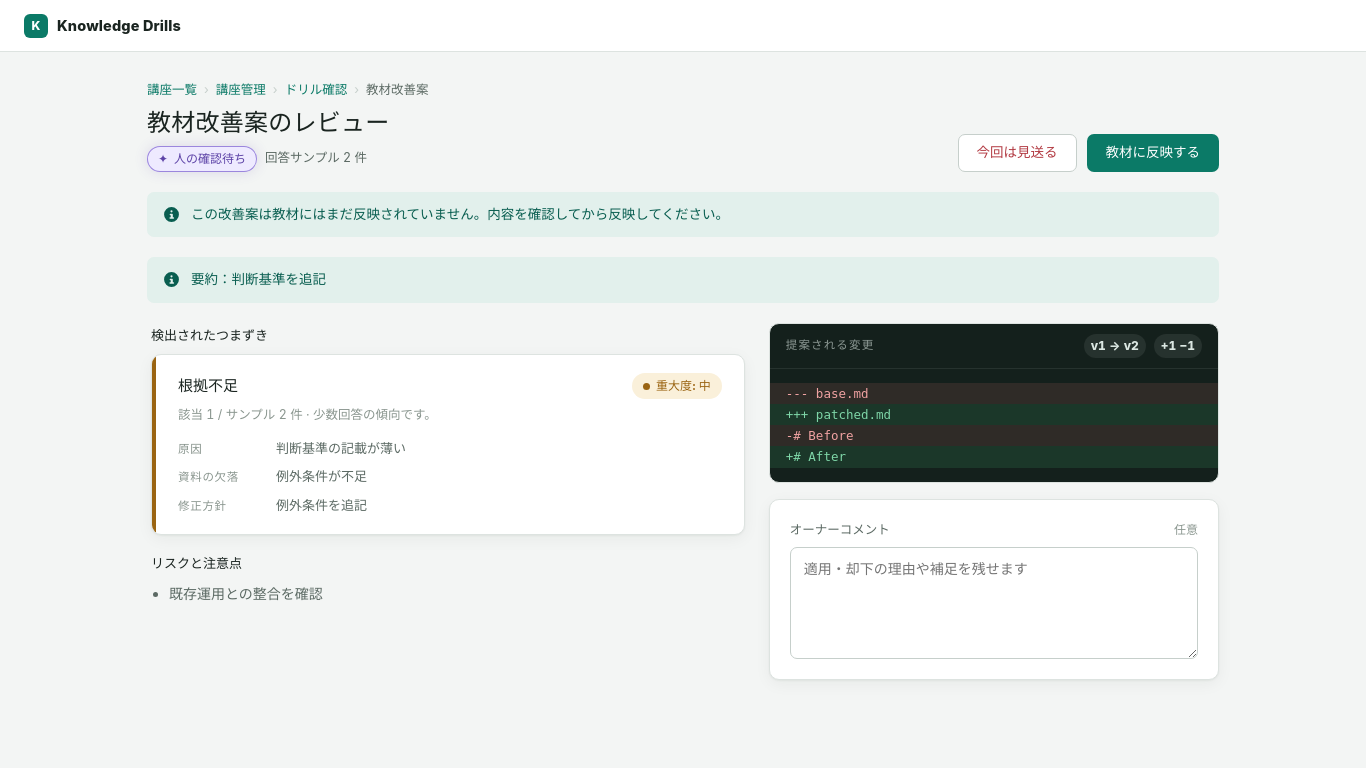
Test case: PatchReviewPage › rejects patch with owner feedback
The width and height of the screenshot is (1366, 768).
Check: the text "人の確認待ち" is shown, box [147,146,257,172]
Type "不要です" into the text box labelled "オーナーコメント 任意". click: (994, 603)
box: [790,547,1198,659]
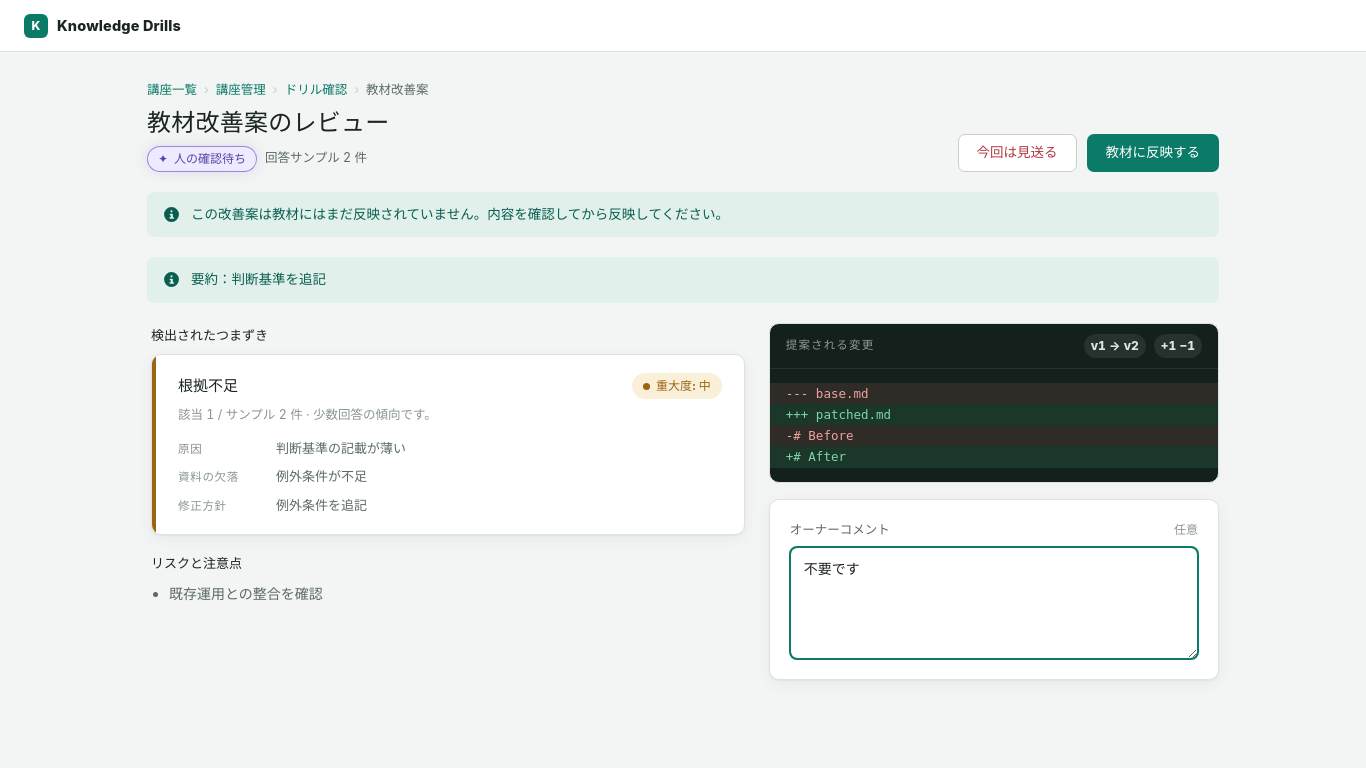
Click the button "今回は見送る". click: click(1017, 153)
box: [958,134,1076,172]
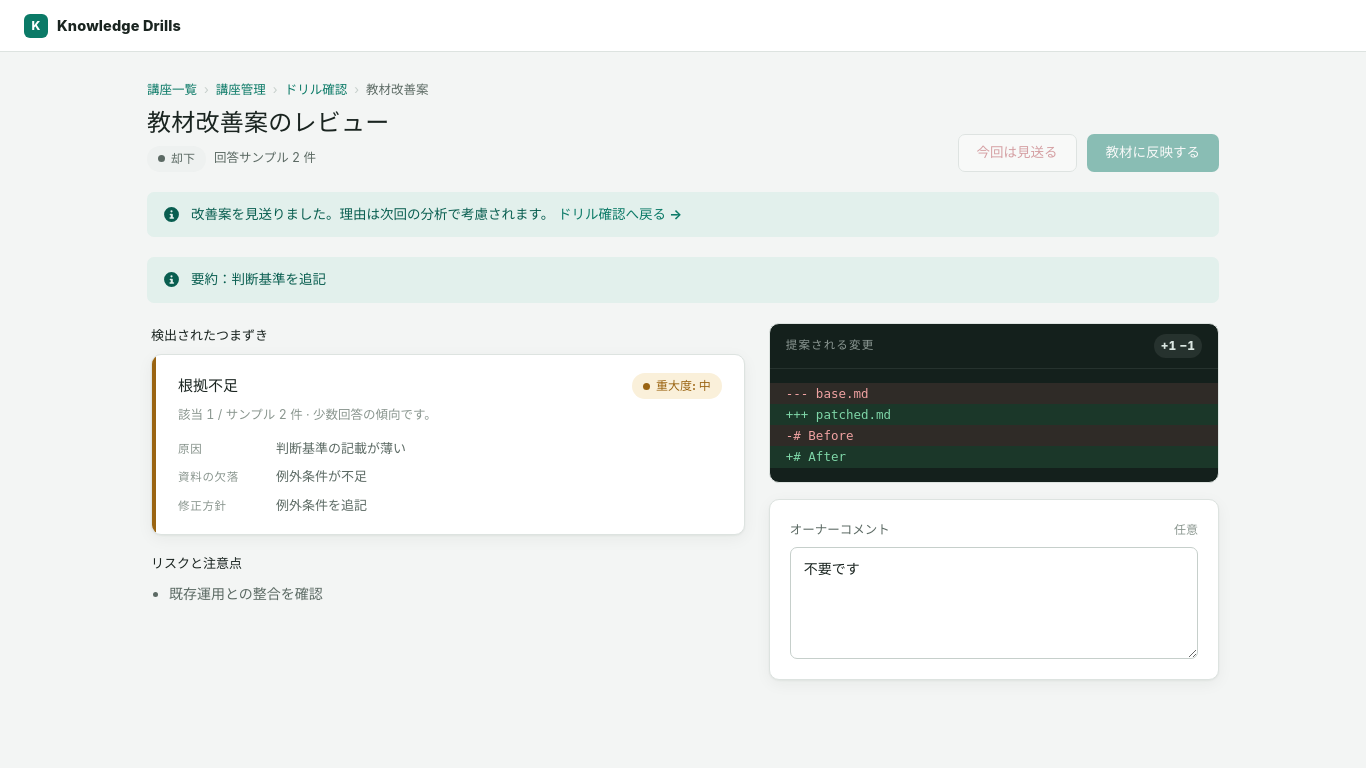
Check: the text "改善案を見送りました。理由は次回の分析で考慮されます。 ドリル確認へ戻る →" is shown, box [191,204,682,225]
